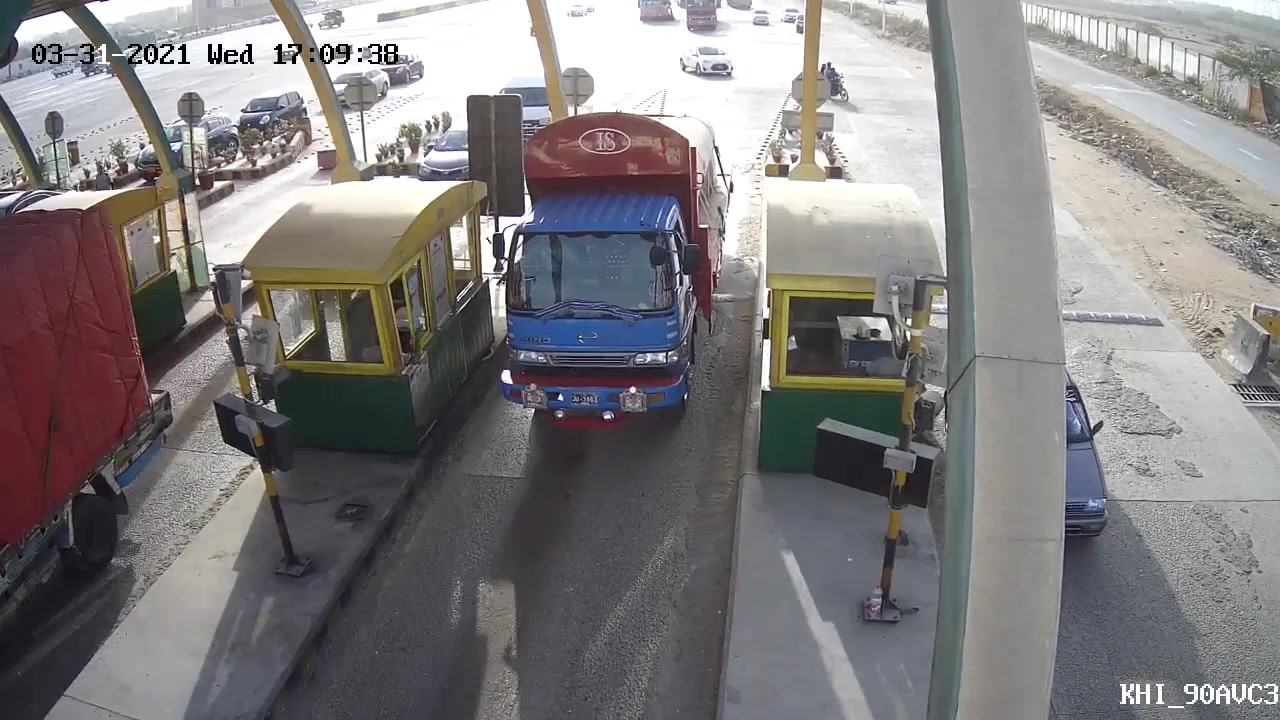F5: (453, 101, 734, 433)
